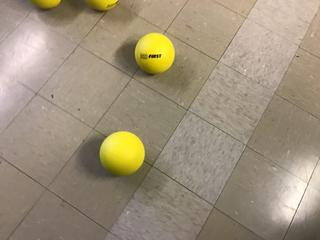power_cell: (97, 130, 150, 178), (134, 31, 179, 74), (83, 1, 124, 13), (34, 1, 63, 7)
